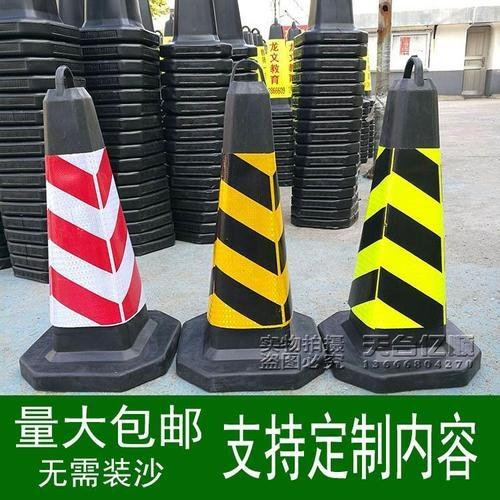cone_barrel: (326, 55, 476, 379), (26, 65, 169, 377), (188, 58, 322, 387)
